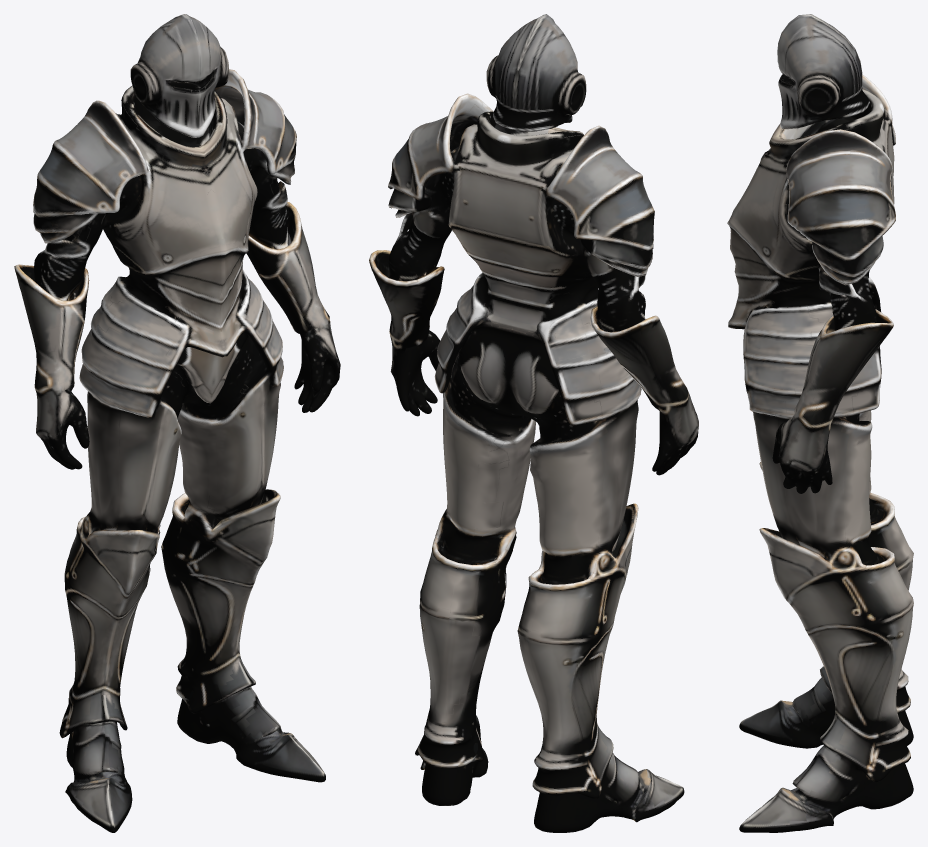
The model's file is knightArmor.fbx.
3 renders of one model, left to right at view 1: azimuth 30°, elevation 25°; view 2: azimuth 150°, elevation 25°; view 3: azimuth 270°, elevation 25°, orthographic.
Parts seen in each view (by area): view 1: knightArmor; view 2: knightArmor; view 3: knightArmor.
Part boxes in pixels (x1,y1,x2,y2): knightArmor: (14,14,340,832); knightArmor: (369,14,698,832); knightArmor: (727,14,913,832).
Size of the model in its own units: 40.23 by 99.41 by 21.97.
